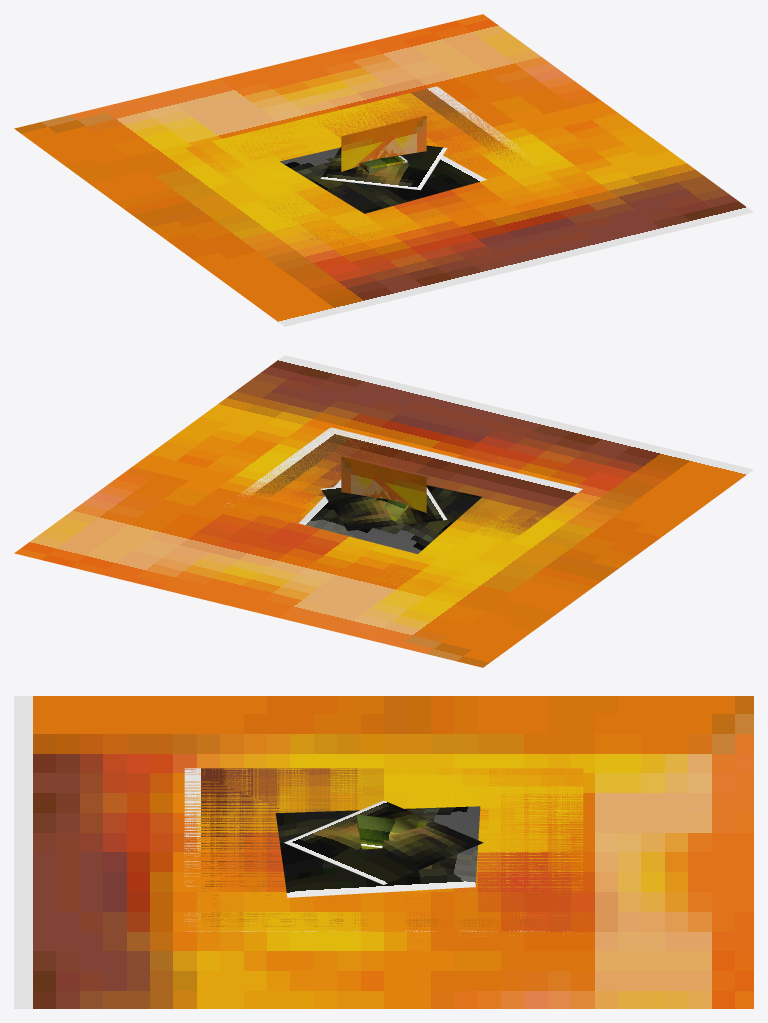
Rendered from datan_common_ExplodeBU_9bdee2f1.obj.
The picture shows the model from 3 angles, top to bottom: view 1: azimuth 30°, elevation 25°; view 2: azimuth 150°, elevation 25°; view 3: azimuth 270°, elevation 25°; orthographic projection. The views are drawn at different scales.
Visible parts, largest first — view 1: datan_common_ExplodeBU_9bdee2f1_mesh35, datan_common_ExplodeBU_9bdee2f1_mesh11, datan_common_ExplodeBU_9bdee2f1_mesh03, datan_common_ExplodeBU_9bdee2f1_mesh02, datan_common_ExplodeBU_9bdee2f1_mesh29; view 2: datan_common_ExplodeBU_9bdee2f1_mesh35, datan_common_ExplodeBU_9bdee2f1_mesh11, datan_common_ExplodeBU_9bdee2f1_mesh03, datan_common_ExplodeBU_9bdee2f1_mesh02, datan_common_ExplodeBU_9bdee2f1_mesh29; view 3: datan_common_ExplodeBU_9bdee2f1_mesh35, datan_common_ExplodeBU_9bdee2f1_mesh11, datan_common_ExplodeBU_9bdee2f1_mesh03, datan_common_ExplodeBU_9bdee2f1_mesh02, datan_common_ExplodeBU_9bdee2f1_mesh17.
Part boxes in pixels (x1=…): datan_common_ExplodeBU_9bdee2f1_mesh35: x1=14, y1=14, x2=753, y2=326; datan_common_ExplodeBU_9bdee2f1_mesh11: x1=185, y1=86, x2=538, y2=244; datan_common_ExplodeBU_9bdee2f1_mesh03: x1=280, y1=147, x2=486, y2=213; datan_common_ExplodeBU_9bdee2f1_mesh02: x1=320, y1=145, x2=447, y2=190; datan_common_ExplodeBU_9bdee2f1_mesh29: x1=341, y1=115, x2=426, y2=171; datan_common_ExplodeBU_9bdee2f1_mesh35: x1=14, y1=355, x2=753, y2=667; datan_common_ExplodeBU_9bdee2f1_mesh11: x1=226, y1=427, x2=582, y2=594; datan_common_ExplodeBU_9bdee2f1_mesh03: x1=299, y1=479, x2=481, y2=553; datan_common_ExplodeBU_9bdee2f1_mesh02: x1=321, y1=486, x2=447, y2=530; datan_common_ExplodeBU_9bdee2f1_mesh29: x1=341, y1=456, x2=426, y2=512; datan_common_ExplodeBU_9bdee2f1_mesh35: x1=14, y1=696, x2=753, y2=1008; datan_common_ExplodeBU_9bdee2f1_mesh11: x1=184, y1=768, x2=583, y2=936; datan_common_ExplodeBU_9bdee2f1_mesh03: x1=275, y1=806, x2=480, y2=897; datan_common_ExplodeBU_9bdee2f1_mesh02: x1=284, y1=800, x2=483, y2=884; datan_common_ExplodeBU_9bdee2f1_mesh17: x1=357, y1=814, x2=426, y2=849.
Bounding box in the file's own units: 13 × 2.36 × 13.
Materials: 1 (1 with a texture image).
